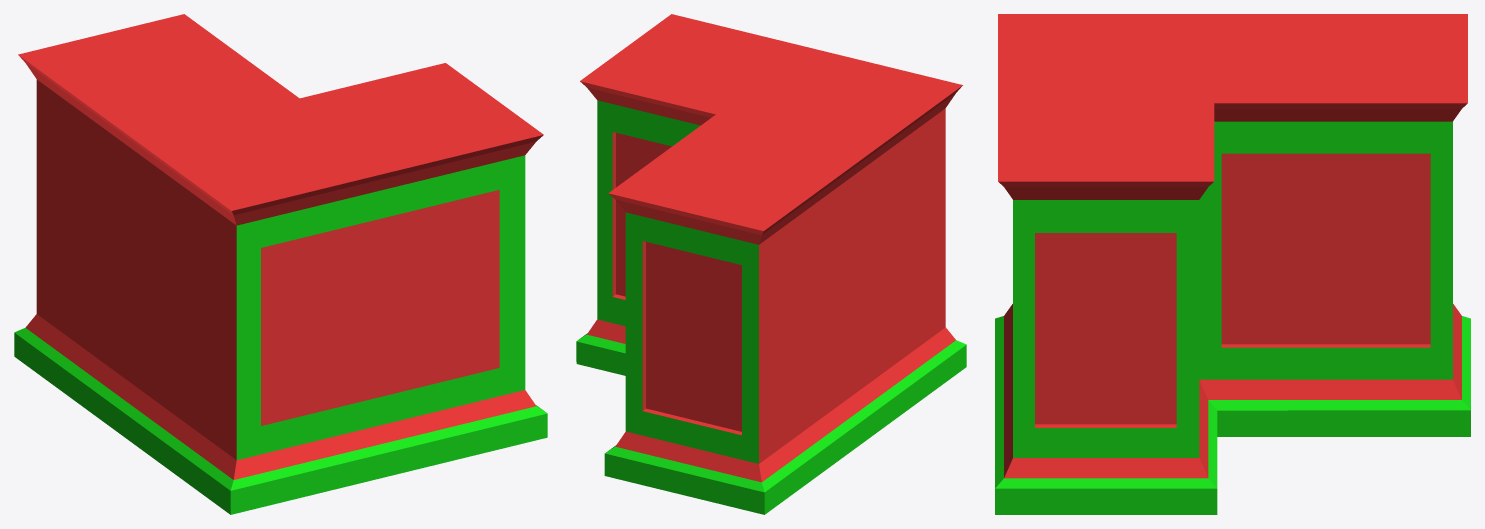
Rendered from PilierStatus.fbx.
3 views of the same model, side by side, from view 1: azimuth 30°, elevation 25°; view 2: azimuth 150°, elevation 25°; view 3: azimuth 270°, elevation 25° (orthographic). The views are drawn at different scales.
Parts seen in each view (by area): view 1: pillier_status; view 2: pillier_status; view 3: pillier_status.
Part boxes in pixels (x1,y1,x2,y2): pillier_status: [14, 14, 547, 514]; pillier_status: [576, 14, 966, 514]; pillier_status: [995, 14, 1470, 514].
Bounding box in the file's own units: 5994 × 5461 × 7086.
